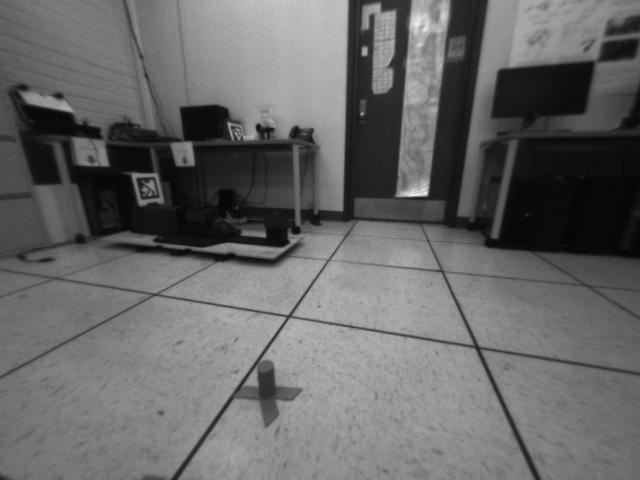X: (233, 359, 302, 429)
